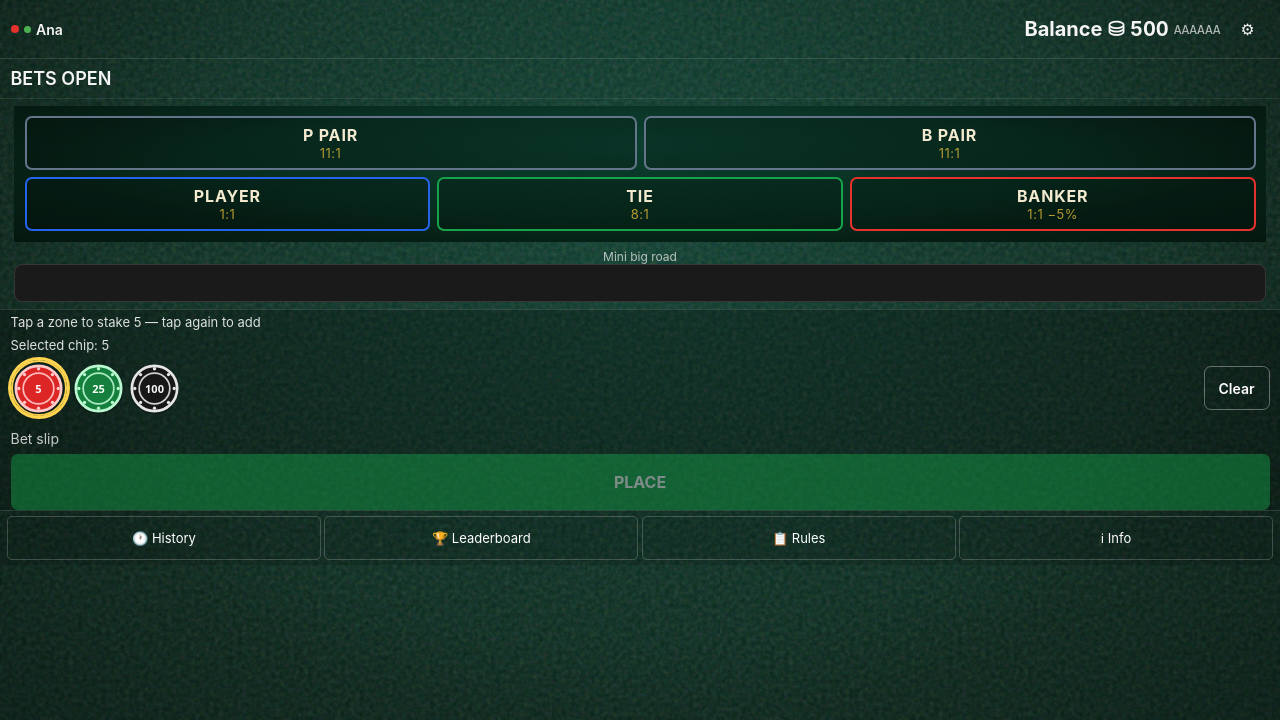
PlayerShell › shows over max validation toast
Click the button with test id "chip-denom-100" at [154, 388], box [130,364,178,413]
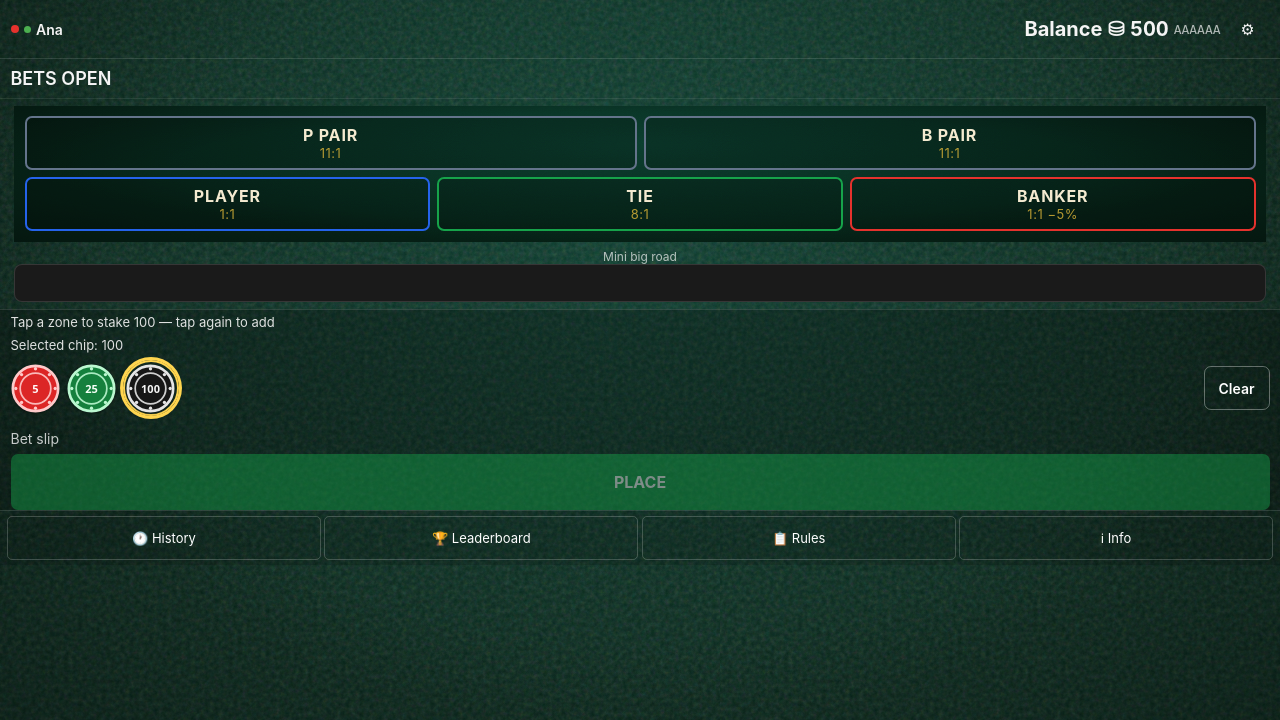
Press the mouse on the button with test id "felt-zone-banker" at [1053, 204], box [850,177,1256,231]
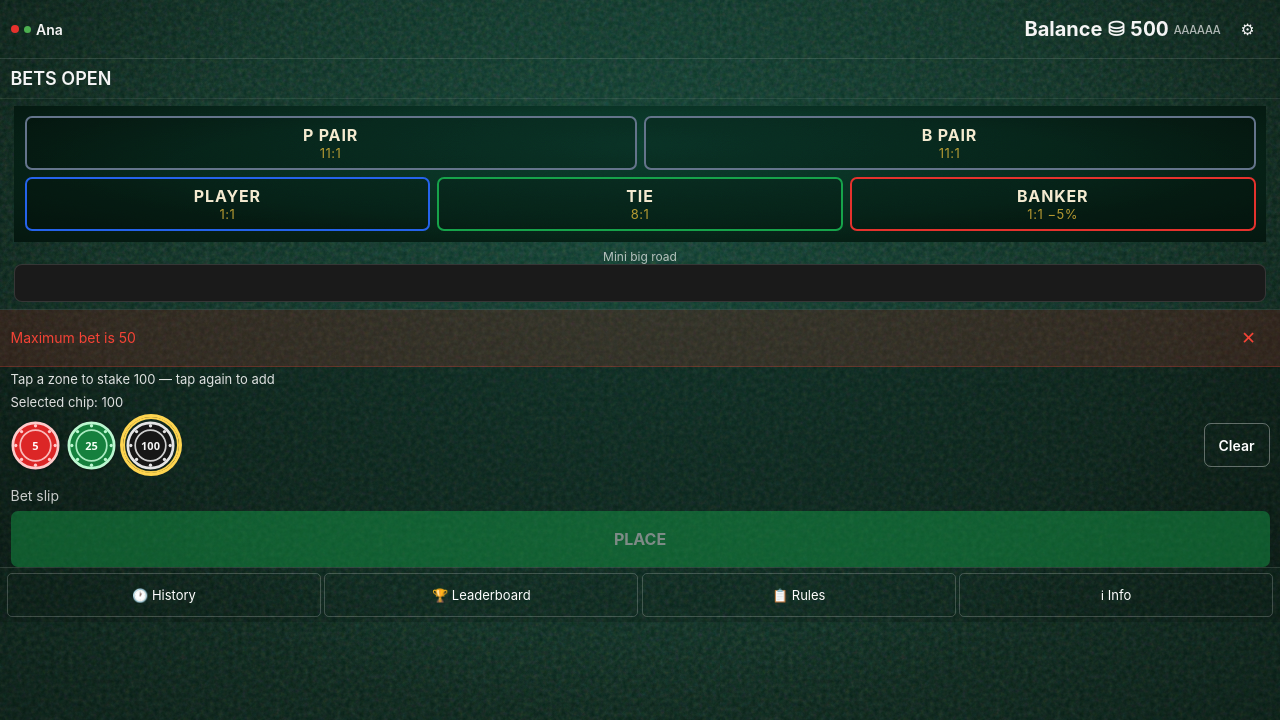
Check: the message with test id "player-toast" shows "Maximum", box [10,329,136,346]
